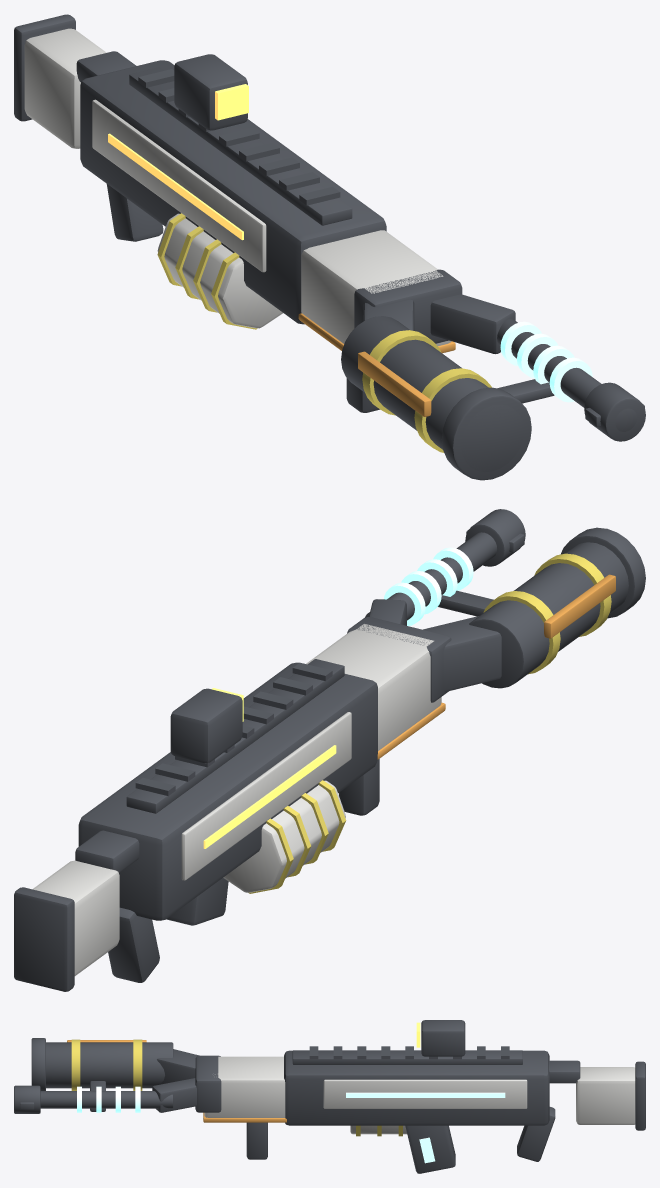
The model's file is fork_cannon.glb.
The picture shows the model from 3 angles, top to bottom: view 1: azimuth 30°, elevation 25°; view 2: azimuth 150°, elevation 25°; view 3: azimuth 270°, elevation 25°; orthographic projection. The views are drawn at different scales.
Visible parts, largest first — view 1: ForkCannon; view 2: ForkCannon; view 3: ForkCannon.
Part boxes in pixels (x1,y1,x2,y2): ForkCannon: [14, 14, 645, 480]; ForkCannon: [14, 509, 645, 991]; ForkCannon: [14, 1020, 645, 1173].
Bounding box in the file's own units: 1.42 × 1.73 × 7.14.
